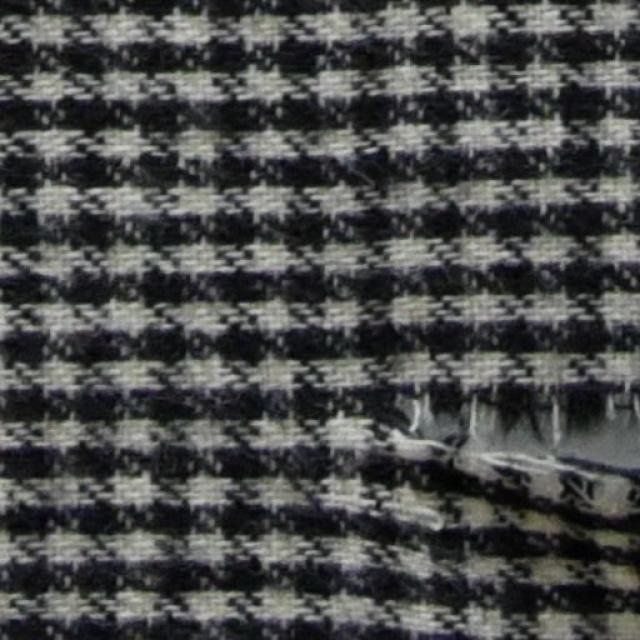Hole: (417, 399, 639, 477)
Snag: (377, 386, 635, 511)
